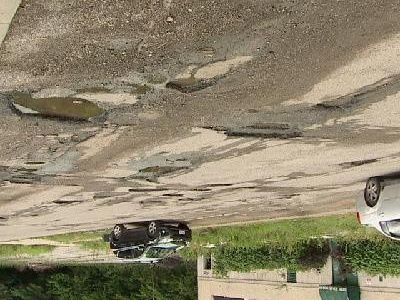pothole: (3, 87, 109, 126), (160, 56, 243, 95), (200, 119, 303, 142), (312, 94, 359, 112), (136, 163, 190, 176)
